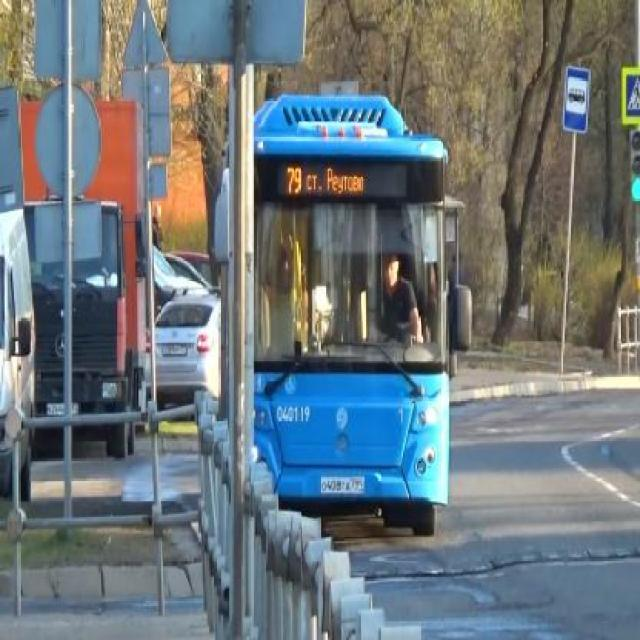bus: (225, 93, 454, 536)
